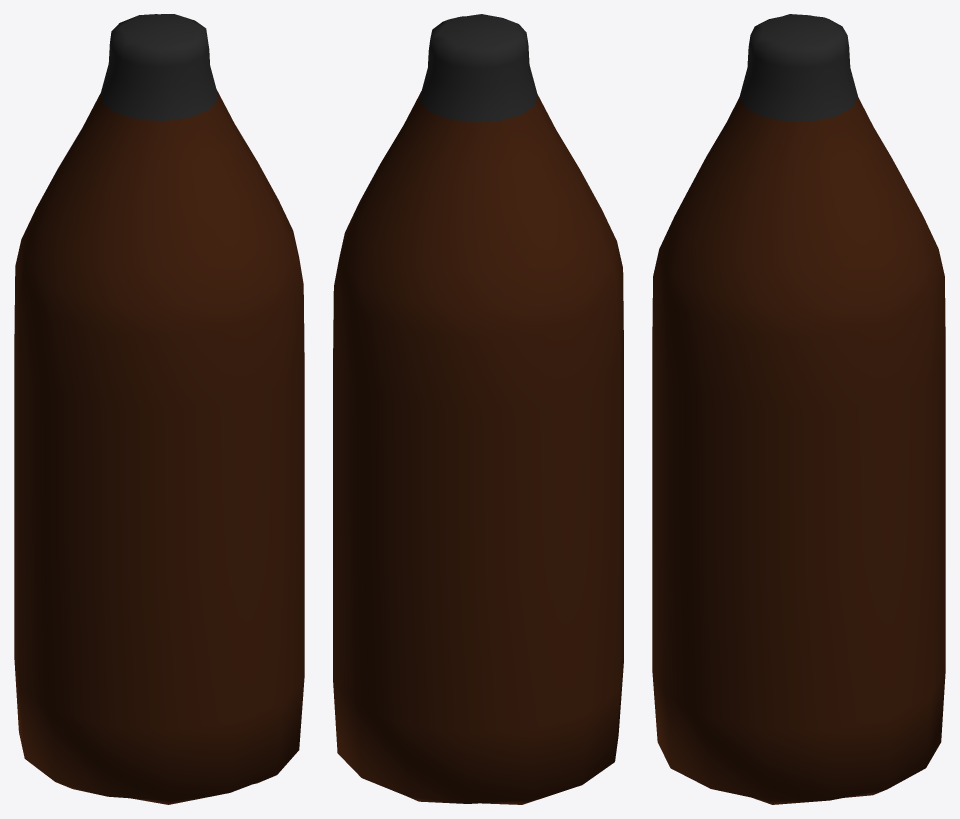
File: Bottle_3.fbx
3 renders of one model, left to right at view 1: azimuth 30°, elevation 25°; view 2: azimuth 150°, elevation 25°; view 3: azimuth 270°, elevation 25°, orthographic.
Visible parts, largest first — view 1: Bottle_3; view 2: Bottle_3; view 3: Bottle_3.
Boxes of the visible parts, left/top/right/bottom form: Bottle_3: left=14, top=14, right=304, bottom=804; Bottle_3: left=333, top=14, right=623, bottom=804; Bottle_3: left=652, top=14, right=945, bottom=804.
Size of the model in its own units: 9.94 by 27.97 by 10.19.
